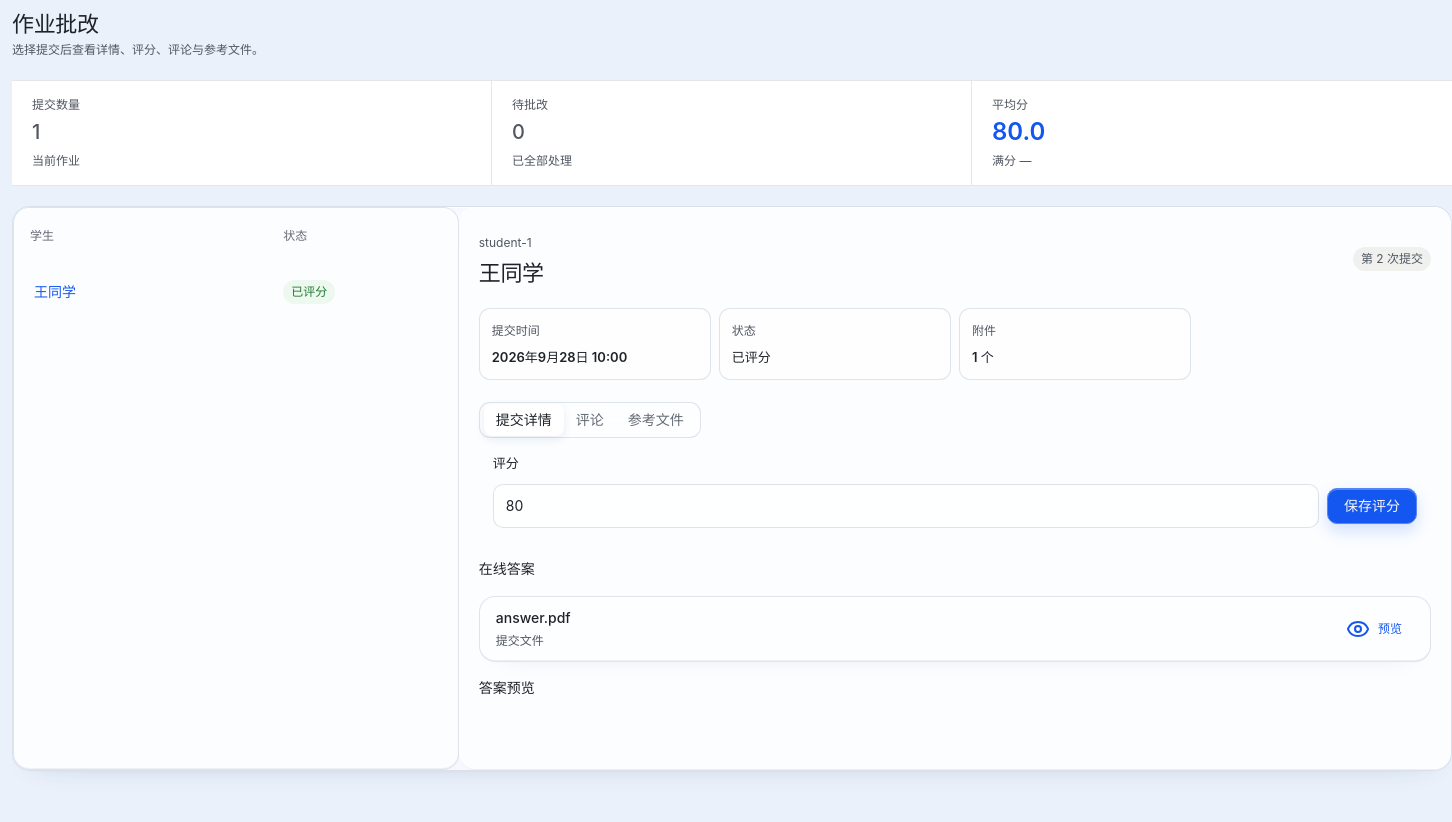
Test: GradingView › shows an inline score error and neutralizes the empty pending summary
The image size is (1452, 822).
Replace the text in the field labelled "评分" with "-1" at (906, 506), box [493, 484, 1319, 528]
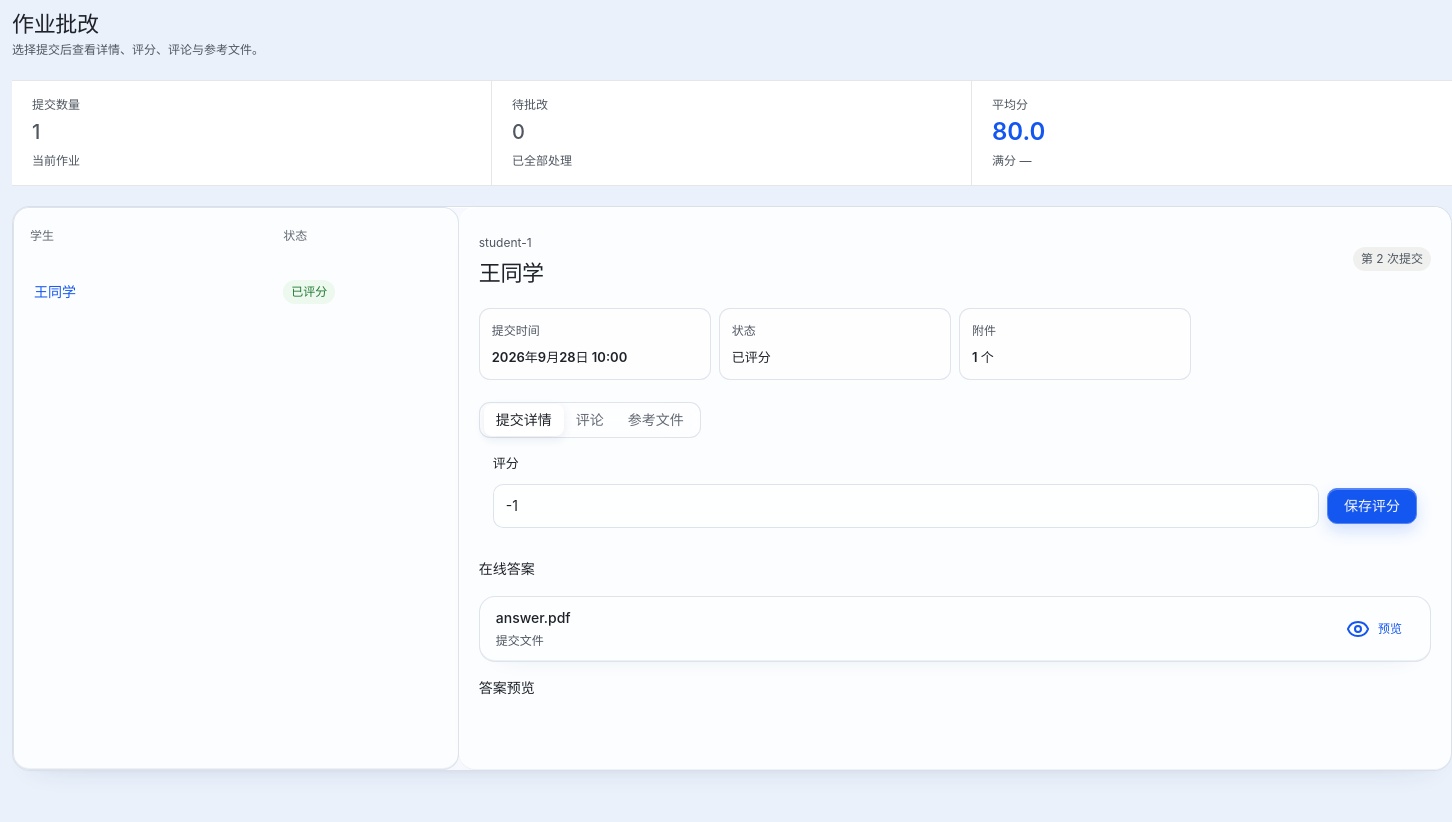
Click the button "保存评分" at (1372, 506), box [1327, 488, 1417, 524]
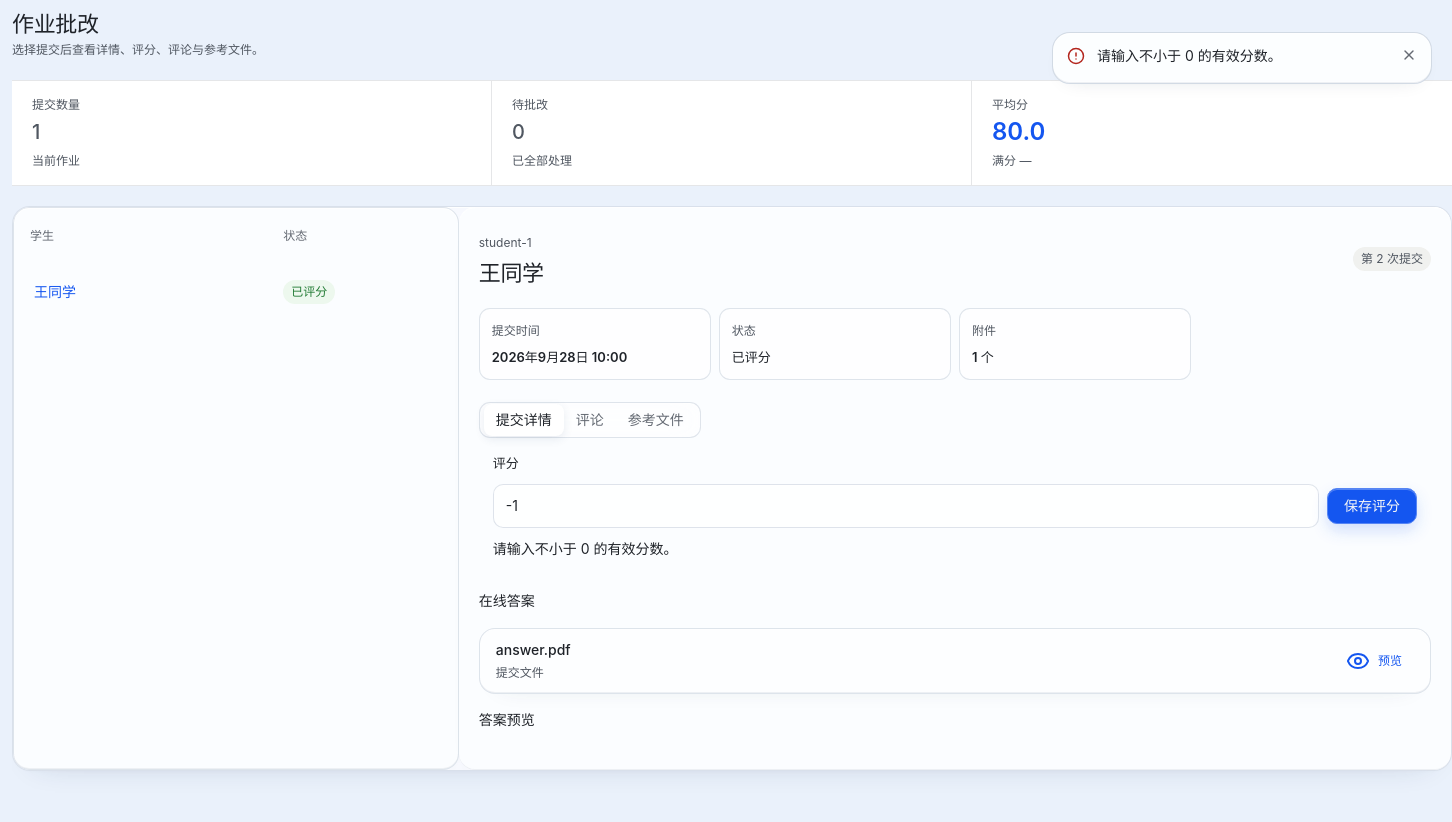
Result: the message with id "grading-score-error" reads "请输入不小于 0 的有效分数。" at [493, 540, 678, 557]
